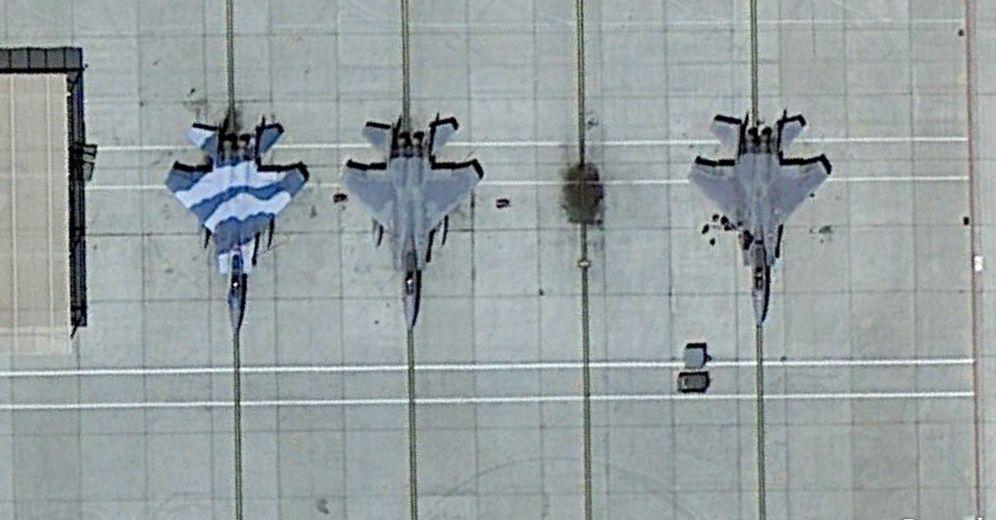F-15: (691, 110, 835, 329), (161, 119, 310, 329), (336, 116, 480, 327)
